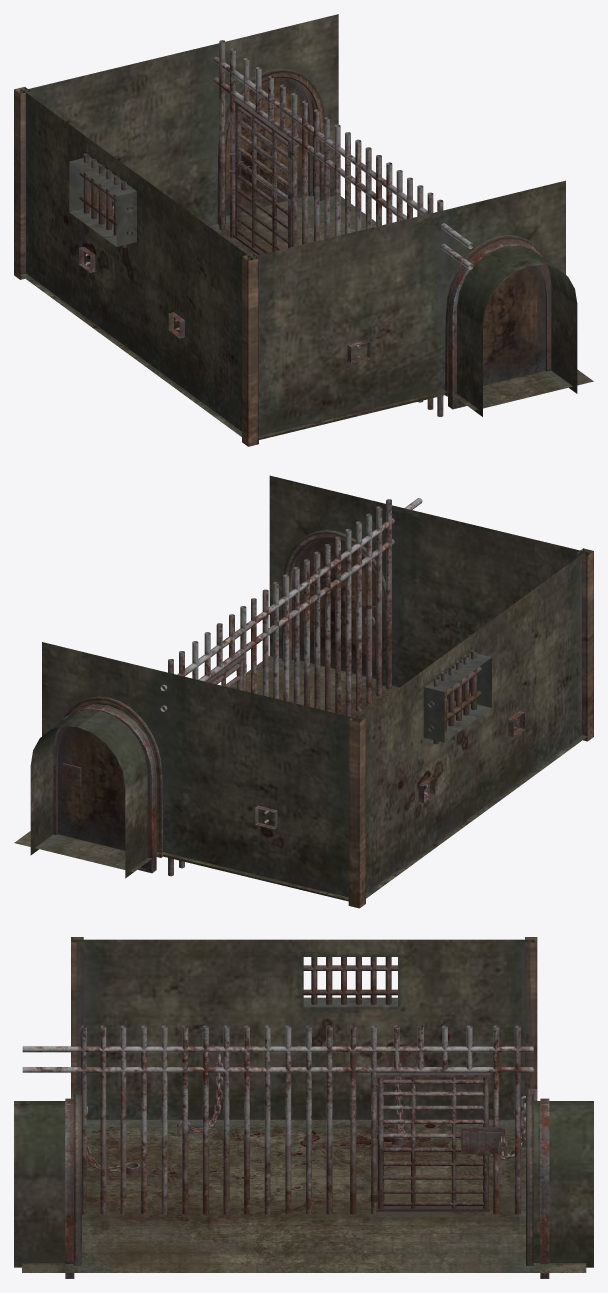
3 renders of one model, top to bottom at view 1: azimuth 30°, elevation 25°; view 2: azimuth 150°, elevation 25°; view 3: azimuth 270°, elevation 25°, orthographic.
Visible parts, largest first — view 1: Dungeon_Wallz, Bars, pCylinder45, Dungeon_Floor, Gate1, pCylinder44, polySurface55, Chainsmeshthing; view 2: Dungeon_Wallz, Bars, pCylinder44, Dungeon_Floor, pCylinder45, polySurface55, Chainsmeshthing, Gate1; view 3: Dungeon_Wallz, Dungeon_Floor, Bars, Gate1, polySurface55, Chainsmeshthing, pCylinder44, pCylinder45.
Part boxes in pixels (x1=…): Dungeon_Wallz: x1=14, y1=14, x2=577, y2=446; Bars: x1=213, y1=40, x2=473, y2=416; pCylinder45: x1=448, y1=241, x2=551, y2=409; Dungeon_Floor: x1=15, y1=195, x2=593, y2=440; Gate1: x1=228, y1=99, x2=297, y2=254; pCylinder44: x1=226, y1=77, x2=312, y2=215; polySurface55: x1=79, y1=153, x2=132, y2=247; Chainsmeshthing: x1=79, y1=194, x2=370, y2=363; Dungeon_Wallz: x1=30, y1=475, x2=593, y2=908; Bars: x1=160, y1=498, x2=422, y2=876; pCylinder44: x1=53, y1=705, x2=156, y2=873; Dungeon_Floor: x1=14, y1=656, x2=591, y2=899; pCylinder45: x1=292, y1=538, x2=376, y2=678; polySurface55: x1=428, y1=649, x2=481, y2=744; Chainsmeshthing: x1=255, y1=634, x2=524, y2=829; Gate1: x1=206, y1=655, x2=246, y2=690; Dungeon_Wallz: x1=14, y1=937, x2=593, y2=1267; Dungeon_Floor: x1=22, y1=1119, x2=586, y2=1272; Bars: x1=22, y1=1025, x2=533, y2=1214; Gate1: x1=370, y1=1072, x2=507, y2=1211; polySurface55: x1=303, y1=957, x2=397, y2=1004; Chainsmeshthing: x1=71, y1=1052, x2=536, y2=1175; pCylinder44: x1=540, y1=1098, x2=549, y2=1278; pCylinder45: x1=65, y1=1098, x2=74, y2=1278.
Bounding box in the file's own units: 1.33 × 0.8135 × 2.
7 materials, 7 textured.
